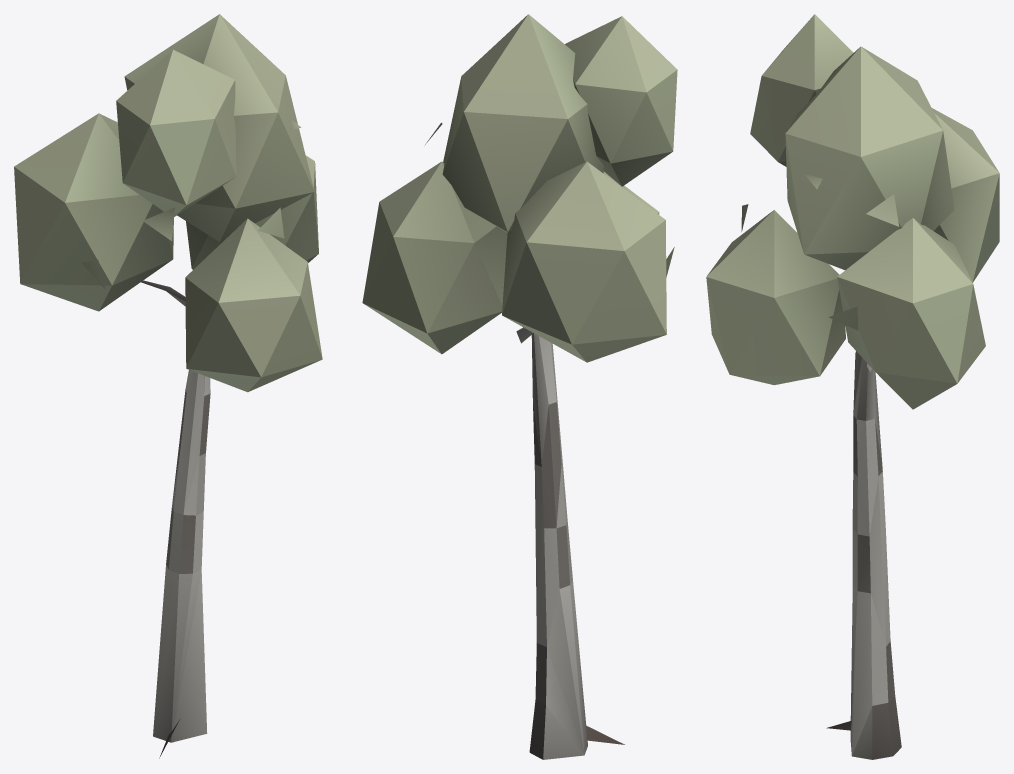
File: birch.lod2.glb
3 views of the same model, side by side, from view 1: azimuth 30°, elevation 25°; view 2: azimuth 150°, elevation 25°; view 3: azimuth 270°, elevation 25° (orthographic).
Bounding box in the file's own units: 2.91 × 6.88 × 2.54.
